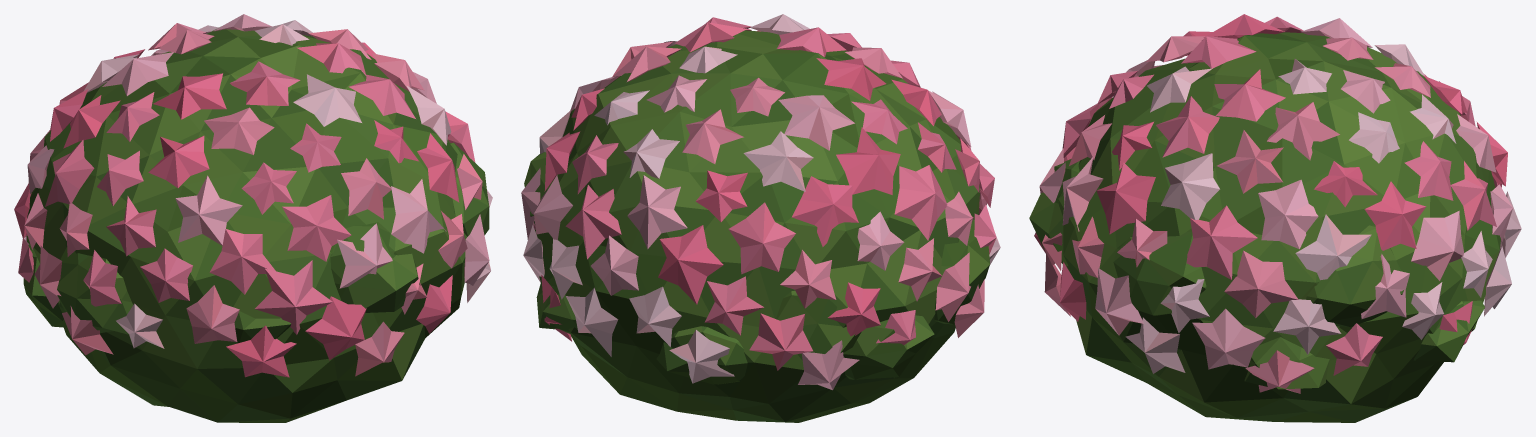
Rendered from zen_azalea.glb.
3 views of the same model, side by side, from view 1: azimuth 30°, elevation 25°; view 2: azimuth 150°, elevation 25°; view 3: azimuth 270°, elevation 25° (orthographic).
Parts seen in each view (by area): view 1: zen_azalea; view 2: zen_azalea; view 3: zen_azalea.
Boxes of the visible parts, x1=… form: zen_azalea: x1=14, y1=14, x2=492, y2=422; zen_azalea: x1=521, y1=14, x2=1000, y2=422; zen_azalea: x1=1029, y1=14, x2=1521, y2=422.
Bounding box in the file's own units: 1.73 × 1.32 × 1.75.
